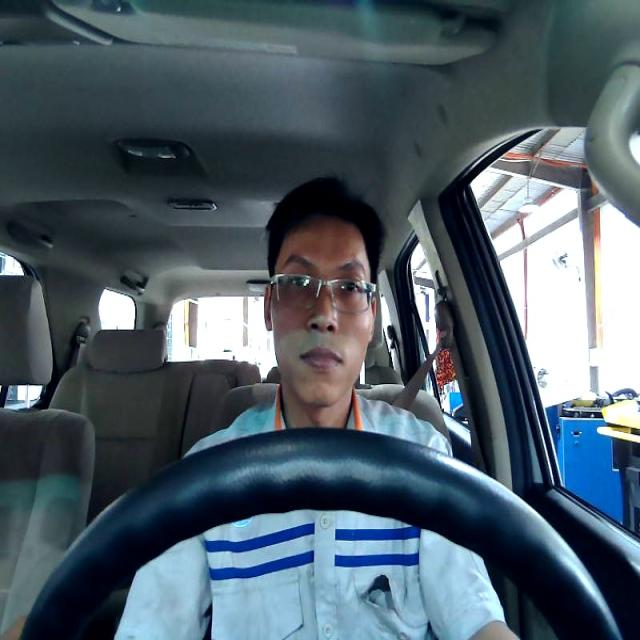focused: (263, 216, 375, 404)
